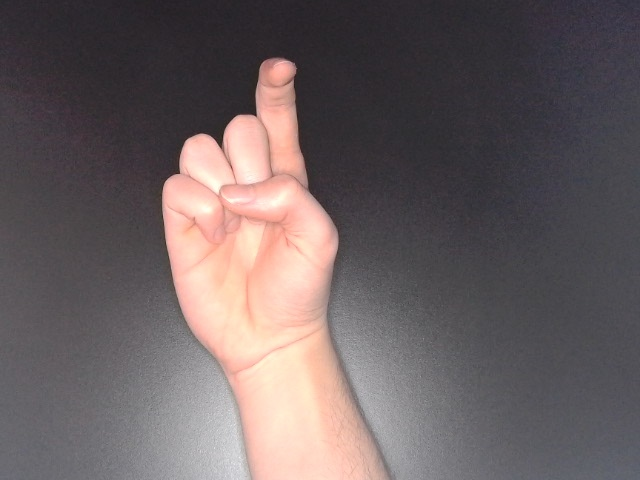x: (153, 52, 345, 398)
